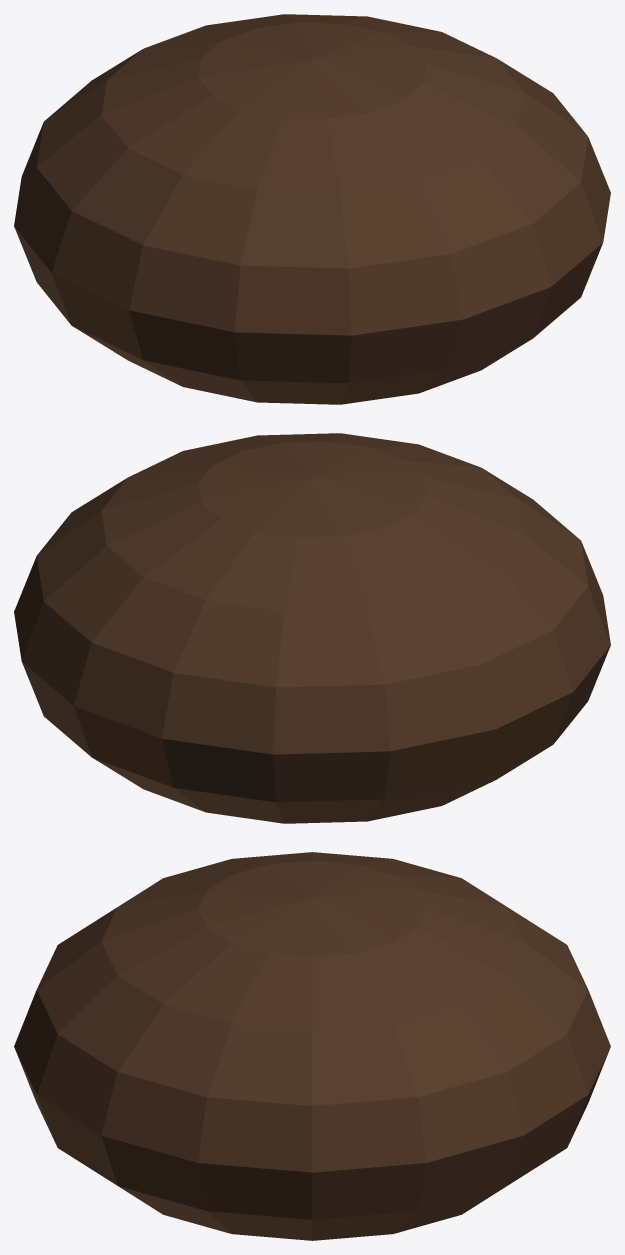
File: crop_seed.glb
3 renders of one model, top to bottom at view 1: azimuth 30°, elevation 25°; view 2: azimuth 150°, elevation 25°; view 3: azimuth 270°, elevation 25°, orthographic.
Parts seen in each view (by area): view 1: SeedMound; view 2: SeedMound; view 3: SeedMound.
Boxes of the visible parts, x1,y1,x2,y2 form: SeedMound: [14, 14, 610, 404]; SeedMound: [14, 433, 610, 823]; SeedMound: [14, 852, 610, 1240].
Size of the model in its own units: 0.36 by 0.198 by 0.36.
